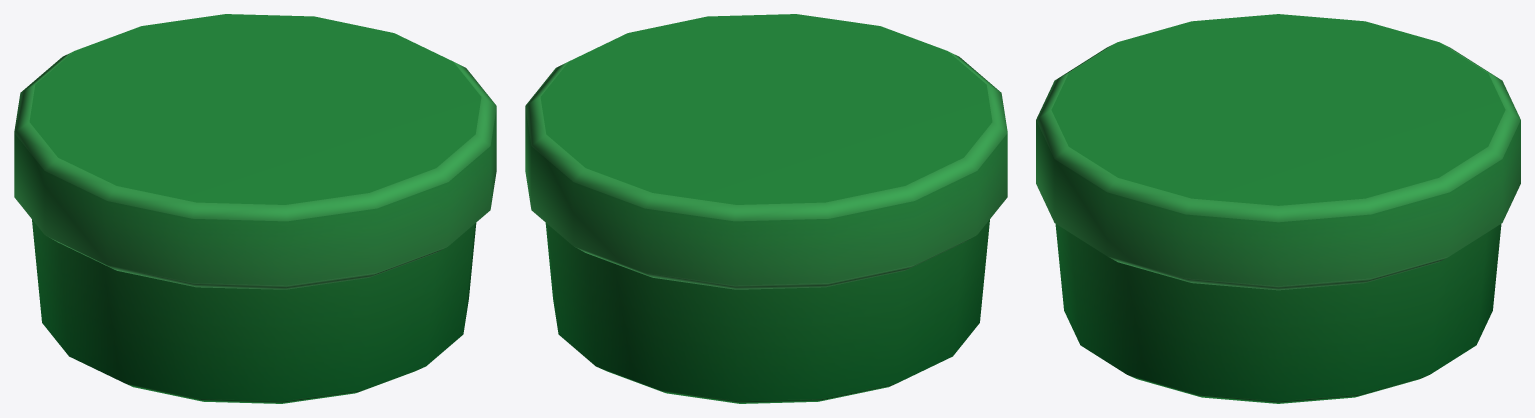
File: giftbox_022.fbx
The picture shows the model from 3 angles, left to right: view 1: azimuth 30°, elevation 25°; view 2: azimuth 150°, elevation 25°; view 3: azimuth 270°, elevation 25°; orthographic projection.
Visible parts, largest first — view 1: giftbox_022; view 2: giftbox_022; view 3: giftbox_022.
Part boxes in pixels (left/top/right/bottom): giftbox_022: left=14, top=14, right=496, bottom=403; giftbox_022: left=525, top=14, right=1007, bottom=403; giftbox_022: left=1036, top=14, right=1520, bottom=403.
Bounding box in the file's own units: 226 × 226 × 108.
